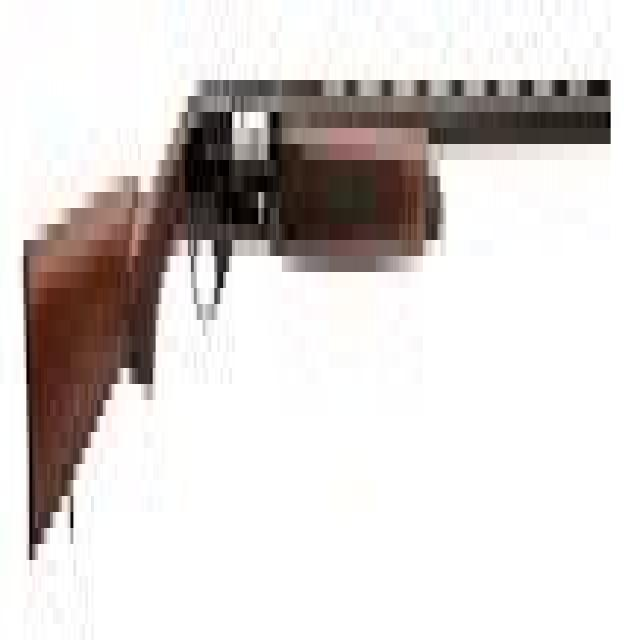rifle: (18, 49, 616, 612)
